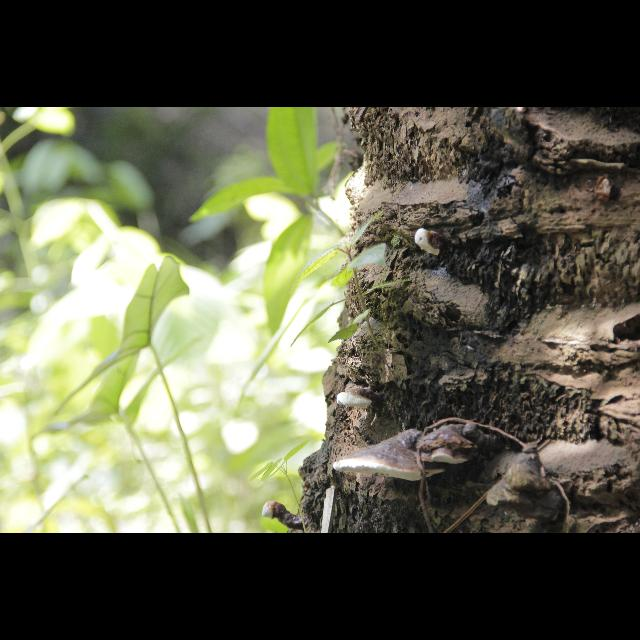ganoderma: (334, 430, 447, 483), (418, 423, 497, 465), (337, 389, 383, 410)
primordium: (415, 229, 445, 257), (261, 502, 287, 522)
